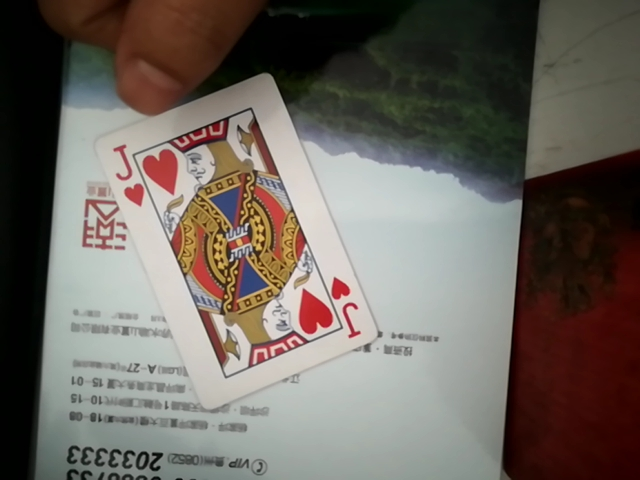hx j: (56, 68, 384, 404)
